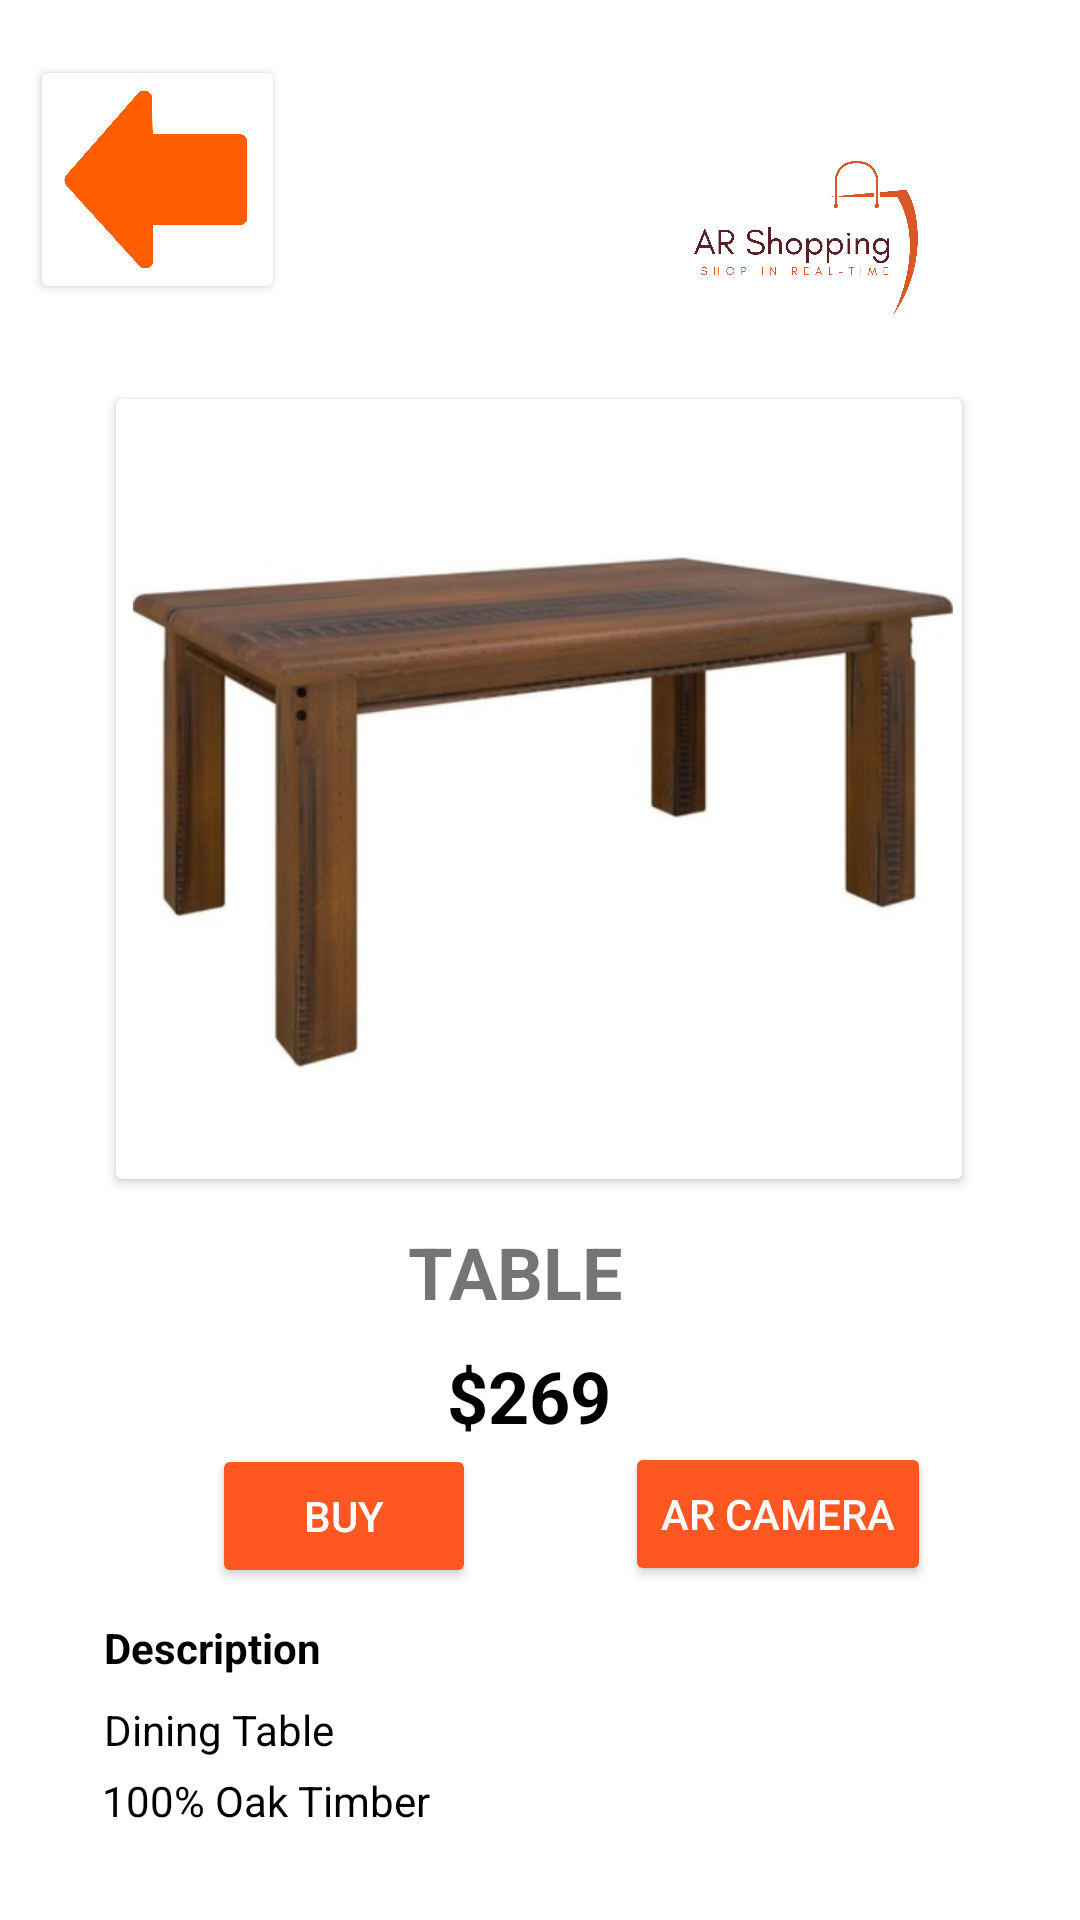

Locate icon controls on the screen. Image size 1080px×1920px, boxes as (left=x1, top=y1, right=x2, bottom=y2).
arrowl: (left=42, top=90, right=247, bottom=286)
